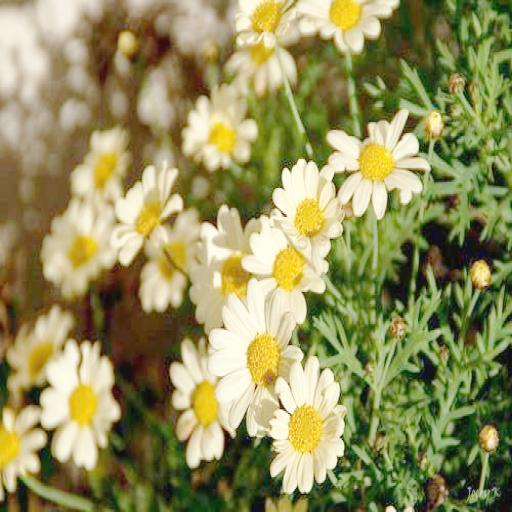daisy: (213, 293, 302, 428), (42, 340, 117, 464), (38, 197, 119, 300), (269, 373, 346, 481), (255, 212, 326, 322), (332, 124, 429, 200), (171, 341, 232, 461), (190, 216, 260, 316), (112, 168, 179, 260), (280, 159, 338, 249), (185, 92, 254, 157), (74, 127, 125, 203), (238, 1, 299, 49)
